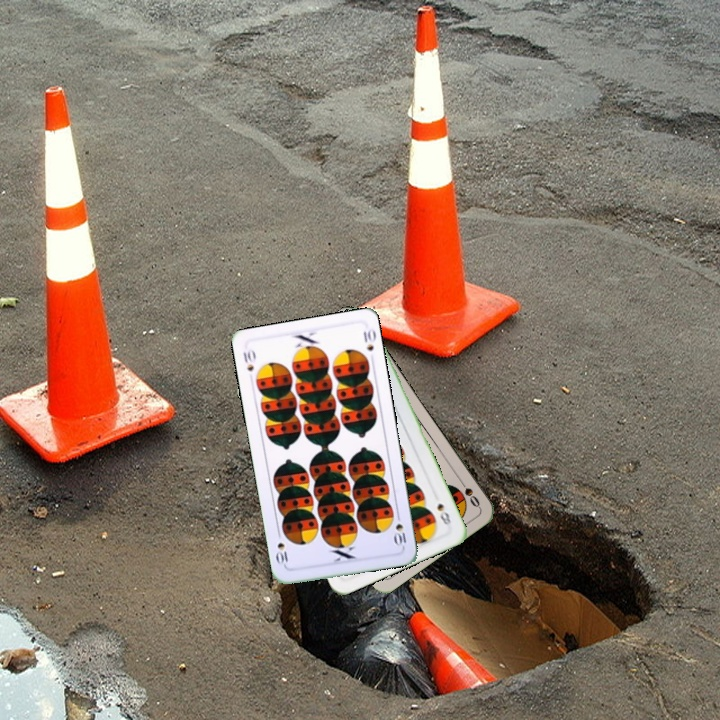S10: (390, 509, 409, 549), (239, 345, 258, 374)
S8: (433, 499, 454, 527)
SO: (454, 474, 483, 510)
